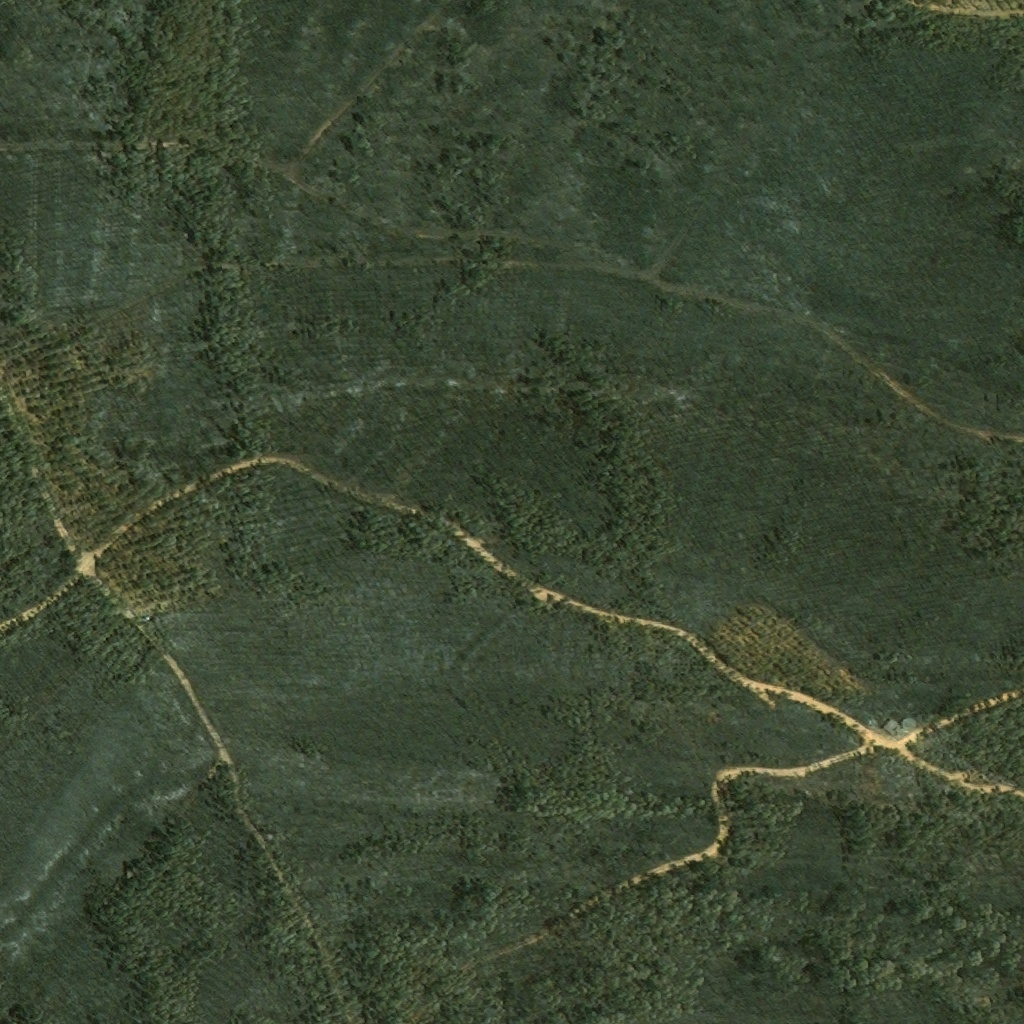1 minor-damage: (879, 717, 902, 735), (900, 717, 915, 731)
